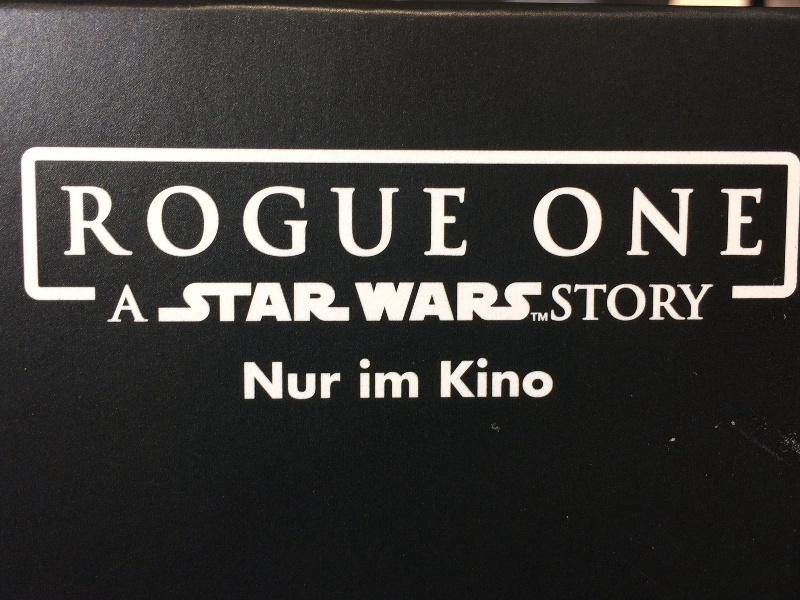text: (65, 186, 80, 258), (81, 186, 96, 258), (97, 186, 112, 258), (113, 186, 128, 258), (129, 186, 144, 258), (145, 186, 160, 258), (161, 186, 176, 258), (177, 186, 192, 258), (193, 186, 208, 258), (209, 186, 224, 258), (225, 186, 240, 258), (241, 186, 256, 258), (257, 186, 272, 258), (273, 186, 288, 258), (289, 186, 304, 258), (305, 186, 320, 258), (321, 186, 336, 258), (337, 186, 352, 258), (353, 186, 368, 258), (369, 186, 384, 258), (385, 186, 400, 258), (401, 186, 416, 258), (417, 186, 432, 258), (433, 186, 448, 258), (449, 186, 464, 258), (545, 188, 560, 258), (561, 188, 576, 258), (577, 188, 592, 258), (593, 188, 608, 258), (609, 188, 624, 258), (625, 188, 640, 258), (641, 188, 656, 258), (657, 188, 672, 258), (673, 188, 688, 258), (689, 188, 704, 258), (705, 188, 720, 258), (721, 188, 736, 258), (737, 188, 752, 258), (533, 188, 544, 258), (449, 353, 464, 398), (465, 353, 480, 398), (481, 353, 496, 398), (497, 353, 512, 398), (513, 353, 528, 398), (529, 353, 544, 398), (753, 188, 762, 258), (369, 358, 384, 399), (385, 358, 400, 399), (401, 358, 416, 399), (369, 282, 384, 322), (385, 282, 400, 322), (401, 282, 416, 322), (417, 282, 432, 322), (433, 282, 448, 322), (449, 282, 464, 322), (465, 282, 480, 322), (481, 282, 496, 322), (497, 282, 512, 322), (513, 282, 528, 322), (161, 282, 176, 322), (177, 282, 192, 322), (193, 282, 208, 322), (209, 282, 224, 322), (225, 282, 240, 322), (241, 282, 256, 322), (257, 282, 272, 322), (273, 282, 288, 322), (289, 282, 304, 322), (305, 282, 320, 322), (321, 282, 336, 322), (129, 284, 144, 323), (257, 362, 272, 400), (273, 362, 288, 400), (289, 362, 304, 400), (305, 362, 320, 400), (321, 362, 336, 400), (561, 284, 576, 321), (577, 284, 592, 321), (593, 284, 608, 321), (609, 284, 624, 321), (625, 284, 640, 321), (641, 284, 656, 321), (657, 284, 672, 321), (673, 284, 688, 321), (689, 284, 704, 321), (355, 282, 368, 322), (529, 282, 542, 322), (337, 282, 350, 322), (244, 362, 256, 400), (545, 353, 554, 398), (359, 358, 368, 399), (441, 353, 448, 398), (552, 284, 560, 321), (705, 284, 713, 321), (60, 186, 64, 258), (465, 186, 468, 258), (145, 284, 149, 323), (337, 362, 341, 400), (125, 284, 128, 323), (531, 313, 544, 321), (417, 358, 419, 399), (158, 282, 160, 322), (545, 313, 548, 321)
